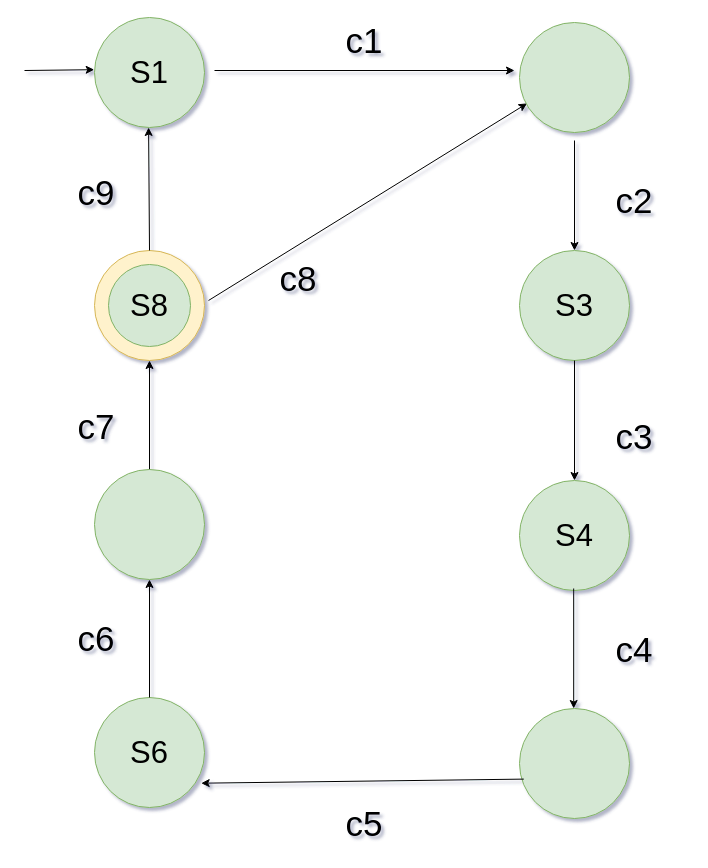
This 708x868 diagram has some shape labels left out. The centre of each missing label's shape, as x and y in pixels:
"S2" goes at [574,77].
"S5" goes at [574,763].
"S7" goes at [149,524].
